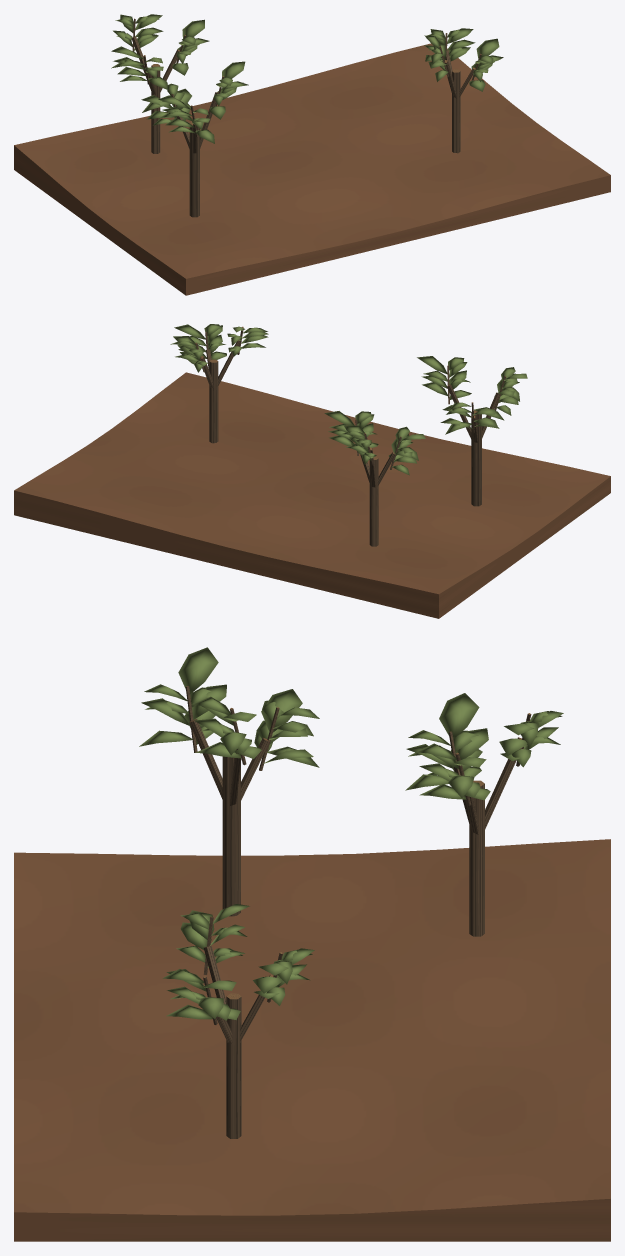
The picture shows the model from 3 angles, top to bottom: view 1: azimuth 30°, elevation 25°; view 2: azimuth 150°, elevation 25°; view 3: azimuth 270°, elevation 25°; orthographic projection. The views are drawn at different scales.
Parts seen in each view (by area): view 1: muscat; view 2: muscat; view 3: muscat.
Boxes of the visible parts, x1,y1,x2,y2 form: muscat: [14, 14, 610, 295]; muscat: [14, 324, 610, 618]; muscat: [14, 647, 610, 1241].
Size of the model in its own units: 7.51 by 2.6 by 5.26.
Materials: 1 (1 with a texture image).
